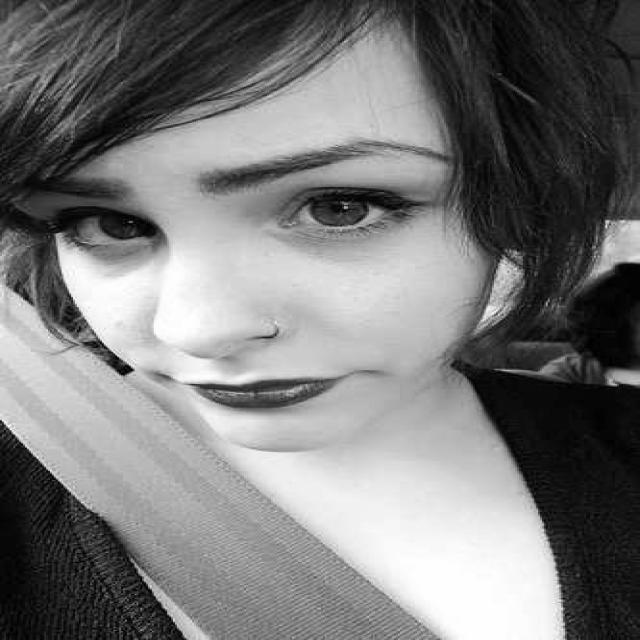Seatbelt: (11, 361, 439, 640)
